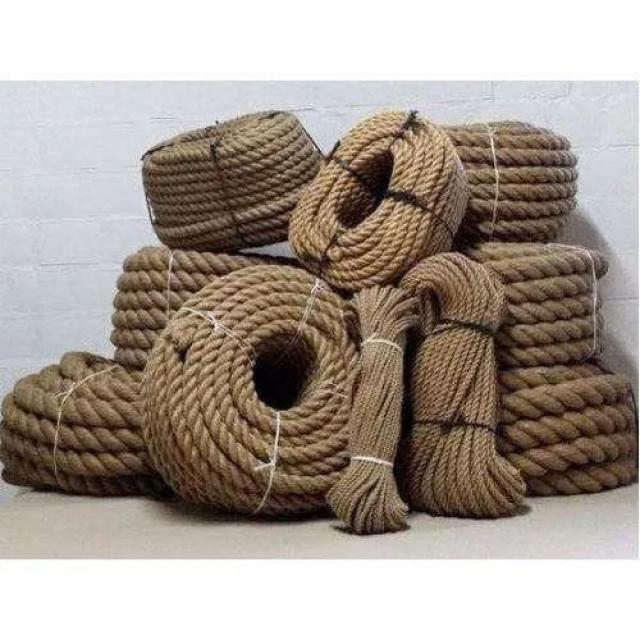Rope: (139, 259, 373, 513), (123, 100, 334, 250), (324, 277, 428, 535)
